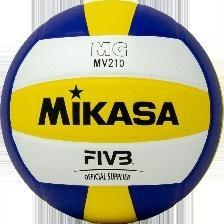Sports-Ball: (1, 0, 221, 224)
